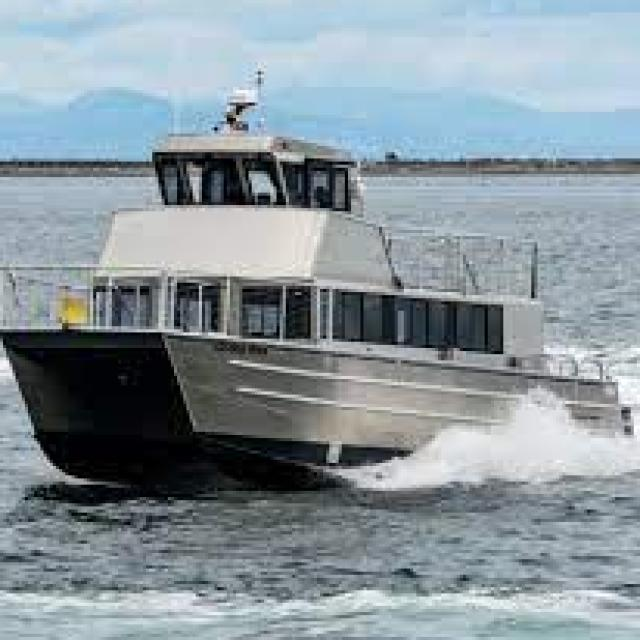houseboat: (0, 65, 628, 491)
